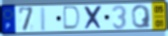3: (112, 4, 129, 32)
7: (17, 7, 35, 33)
D: (62, 5, 82, 32)
I: (40, 6, 48, 32)
Q: (131, 4, 152, 30)
X: (83, 5, 103, 31)
